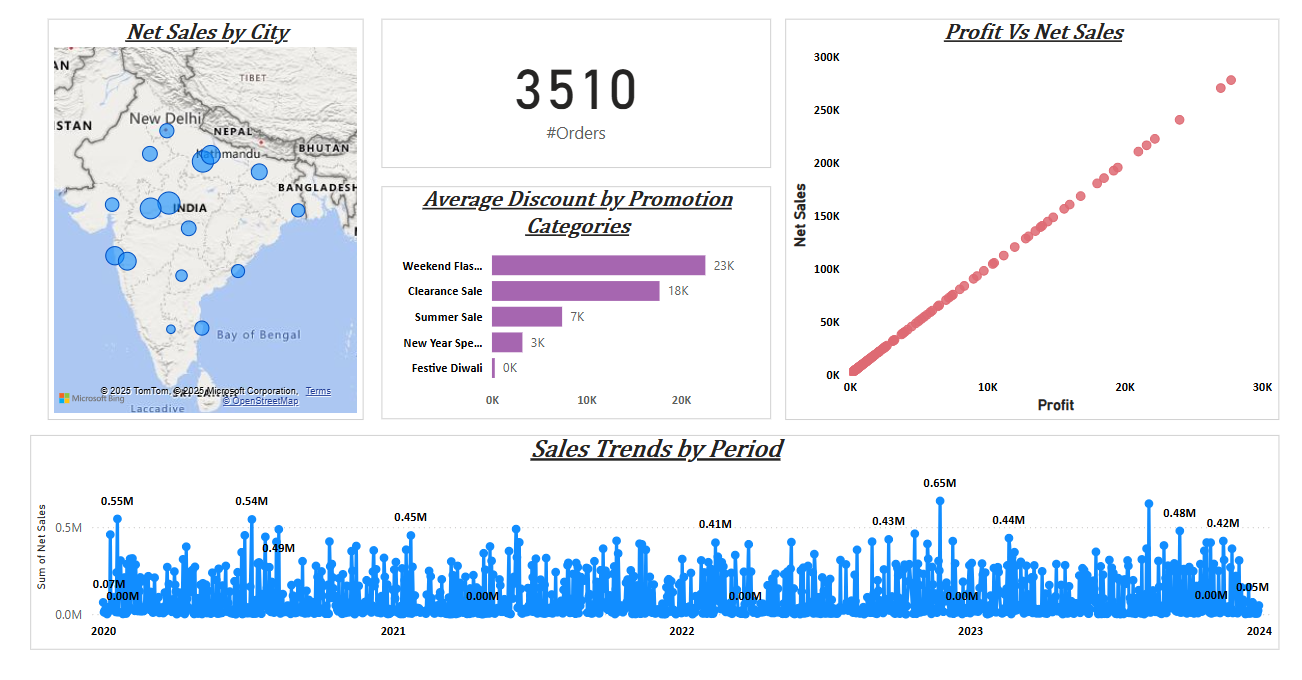

The page's visual inventory and layout, read from the dashboard file:
{"tool":"powerbi","page":{"name":"Overview","canvas":[1280,720],"ordinal":0},"visuals":[{"type":"lineChart","title":"Sales Trends by Period","fields":{"Y":["Sum(Fact Table.Net Sales)"],"Category":["Fact Table.Date (dd/mm/yyyy)"]},"box":[49.5,468.1,1205.2,207.5],"z":0},{"type":"scatterChart","title":"Profit Vs Net Sales","fields":{"X":["Fact Table.Profit"],"Y":["Fact Table.Net Sales"]},"box":[778.2,66.4,476.5,387.3],"z":1000},{"type":"barChart","title":"Average Discount by Promotion Categories","fields":{"Y":["Avg(Fact Table.Discount Value)"],"Category":["Dim Promotion.Promotion Name"]},"box":[388.3,227.8,376,225],"z":2000},{"type":"map","fields":{"Category":["Dim Customers.City"],"Size":["Sum(Fact Table.Net Sales)"]},"box":[65.9,65.9,304.6,387],"z":3000},{"type":"card","fields":{"Values":["Count(Fact Table.Order id)"]},"box":[388.3,65.9,376,144.1],"z":4000}]}

Visuals, with their boxes on the page's 1280x720 design canvas (x1, y1, x2, y2). These are canvas units, not pixel positions in the 1302x680 screenshot, which may show the page scaled, cropped or inside an application window:
"Sales Trends by Period" lineChart: [50,468,1255,676]
"Profit Vs Net Sales" scatterChart: [778,66,1255,454]
"Average Discount by Promotion Categories" barChart: [388,228,764,453]
map - Dim Customers.City x Sum(Fact Table.Net Sales): [66,66,370,453]
card - Count(Fact Table.Order id): [388,66,764,210]
